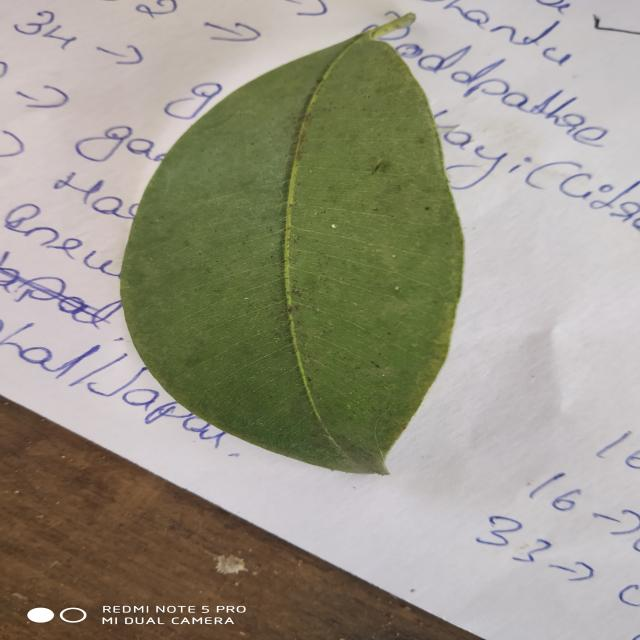sapota: (120, 14, 464, 474)
